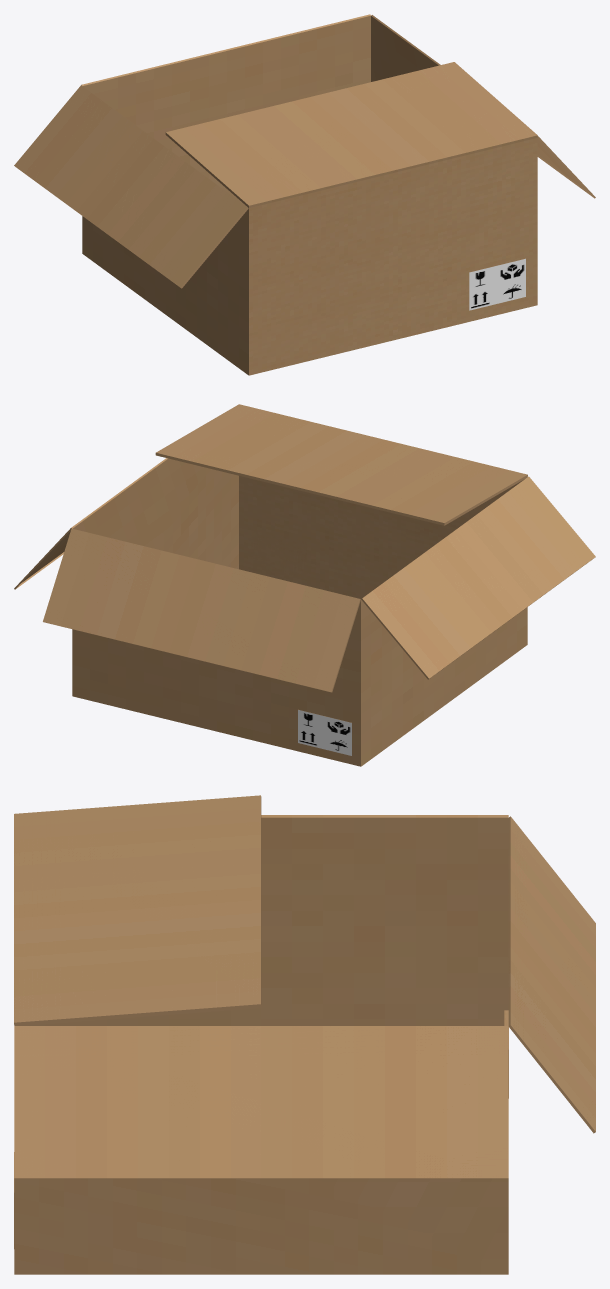
The model's file is paper_box.glb.
The picture shows the model from 3 angles, top to bottom: view 1: azimuth 30°, elevation 25°; view 2: azimuth 150°, elevation 25°; view 3: azimuth 270°, elevation 25°; orthographic projection. The views are drawn at different scales.
Visible parts, largest first — view 1: Cube; view 2: Cube; view 3: Cube.
Boxes of the visible parts, x1,y1,x2,y2 form: Cube: (14,14,595,375); Cube: (14,404,595,766); Cube: (14,795,595,1274).
Bounding box in the file's own units: 2.88 × 1.21 × 2.36.
Materials: 2 (2 with a texture image).
